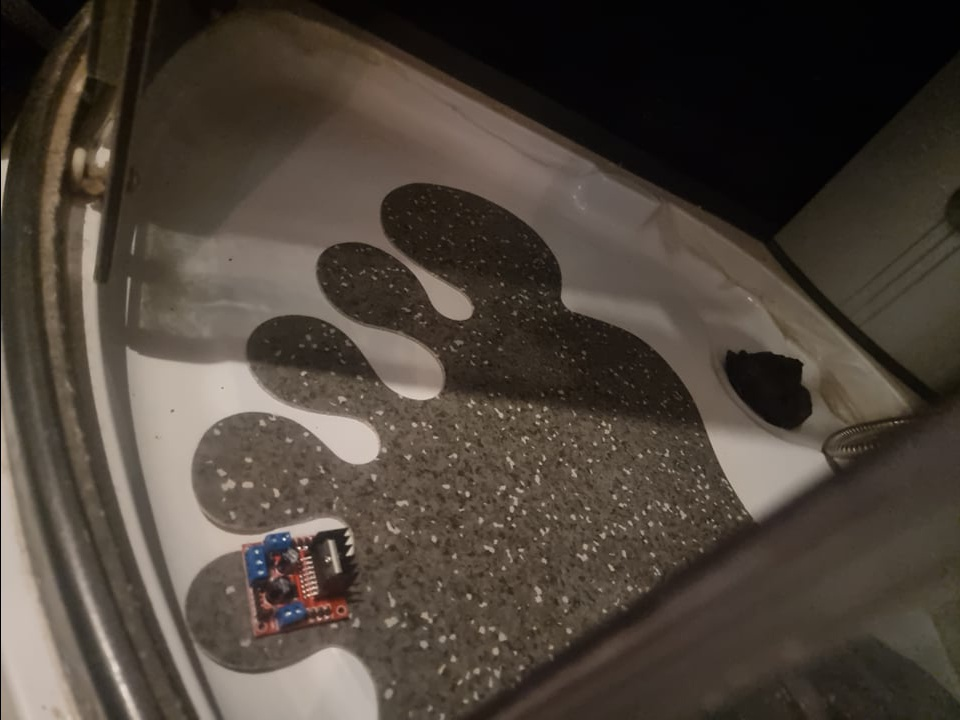MOTOR: (237, 527, 357, 641)
